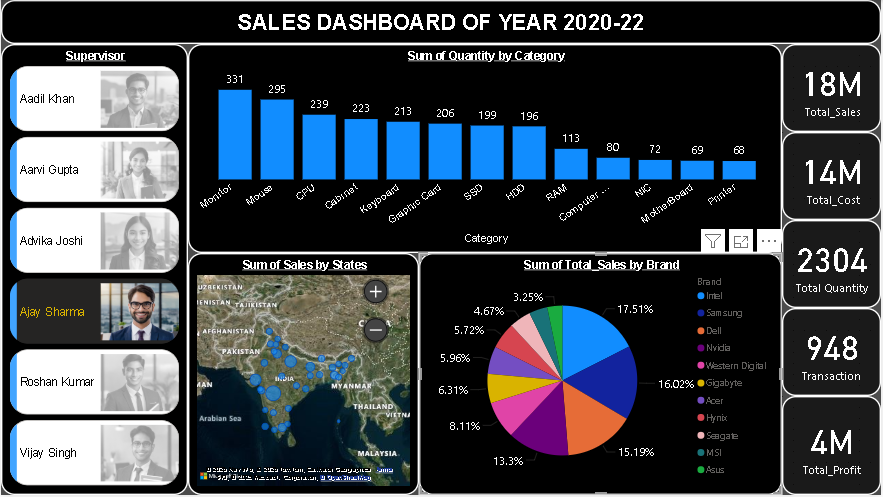

What the dashboard file says about the page in this screenshot:
{"tool":"powerbi","page":{"name":"Page 1","canvas":[1280,720],"ordinal":0},"visuals":[{"type":"textbox","box":[0,0,1280,64],"z":0},{"type":"card","fields":{"Values":["Sum(Sales_Data.Total_Sales)"]},"box":[1136,64,144,128],"z":1000},{"type":"card","fields":{"Values":["Sum(Sales_Data.Total_Cost)"]},"box":[1136,192,144,128],"z":2000},{"type":"card","fields":{"Values":["Sum(Sales_Data.Quantity)"]},"box":[1136,320,144,128],"z":3000},{"type":"card","fields":{"Values":["CountNonNull(Sales_Data.Order_Number)"]},"box":[1136,448,144,128],"z":4000},{"type":"card","fields":{"Values":["Sales_Data.Total_Profit"]},"box":[1136,576,144,144],"z":5000},{"type":"clusteredColumnChart","fields":{"Category":["Sales_Data.Category"],"Y":["Sum(Sales_Data.Quantity)"]},"box":[272,64,864,304],"z":6000},{"type":"pieChart","fields":{"Category":["Sales_Data.Brand"],"Y":["Sum(Sales_Data.Total_Sales)"]},"box":[608,368,528,352],"z":7000},{"type":"map","title":"Sum of Sales by States","fields":{"Category":["State_list.State"],"Size":["Sum(Sales_Data.Sales)"]},"box":[272,368,336,352],"z":8000},{"type":"advancedSlicerVisual","fields":{"Values":["Supervisor.Supervisor"]},"box":[0,64,272,656],"z":9000}]}

Visuals, with their boxes in screenshot pixels (x1, y1, x2, y2), scaled from the page's 1280x720 canvas onto the 883x497 screenshot:
textbox: (left=0, top=0, right=882, bottom=44)
card - Sum(Sales_Data.Total_Sales): (left=784, top=44, right=882, bottom=133)
card - Sum(Sales_Data.Total_Cost): (left=784, top=133, right=882, bottom=221)
card - Sum(Sales_Data.Quantity): (left=784, top=221, right=882, bottom=309)
card - CountNonNull(Sales_Data.Order_Number): (left=784, top=309, right=882, bottom=398)
card - Sales_Data.Total_Profit: (left=784, top=398, right=882, bottom=496)
clusteredColumnChart - Sales_Data.Category x Sum(Sales_Data.Quantity): (left=188, top=44, right=784, bottom=254)
pieChart - Sales_Data.Brand x Sum(Sales_Data.Total_Sales): (left=419, top=254, right=784, bottom=496)
"Sum of Sales by States" map: (left=188, top=254, right=419, bottom=496)
advancedSlicerVisual - Supervisor.Supervisor: (left=0, top=44, right=188, bottom=496)
